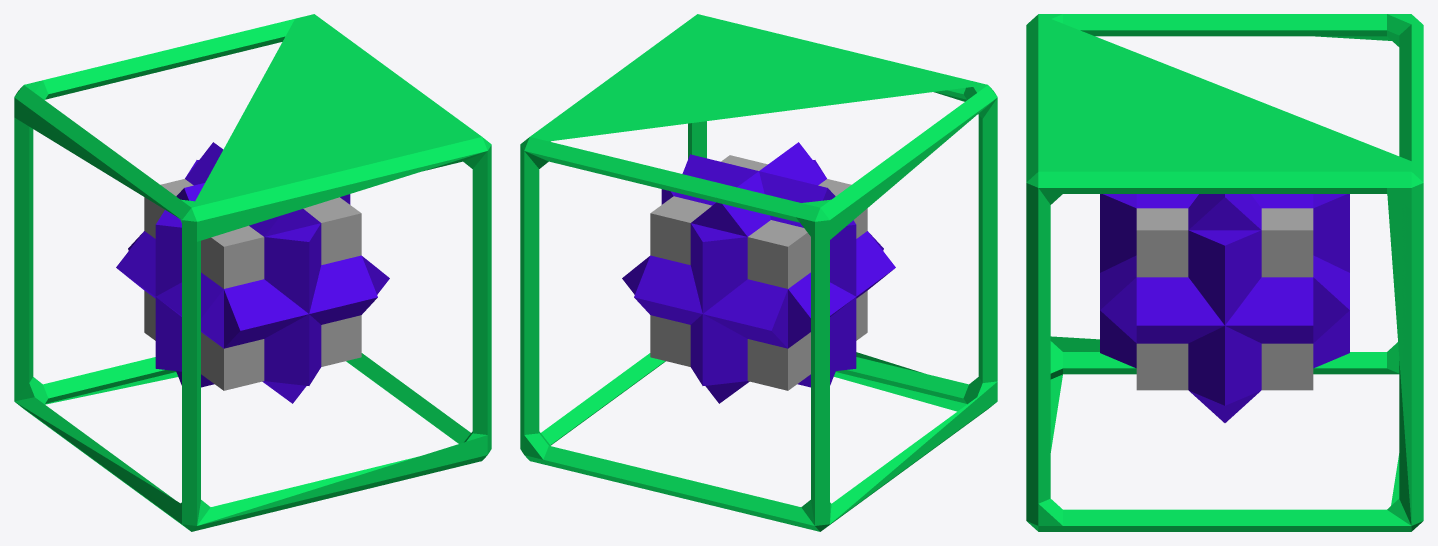
The model's file is Connections Cube.fbx.
3 renders of one model, left to right at view 1: azimuth 30°, elevation 25°; view 2: azimuth 150°, elevation 25°; view 3: azimuth 270°, elevation 25°, orthographic. The views are drawn at different scales.
Parts seen in each view (by area): view 1: Frame, Core; view 2: Frame, Core; view 3: Frame, Core.
Part boxes in pixels (box(x1,y1,x2,y2)): Frame: box(14, 14, 491, 531); Core: box(116, 142, 389, 403); Frame: box(520, 14, 997, 531); Core: box(622, 142, 895, 403); Frame: box(1026, 14, 1423, 531); Core: box(1100, 194, 1349, 422).
Bounding box in the file's own units: 7.5 × 7.5 × 7.5.
